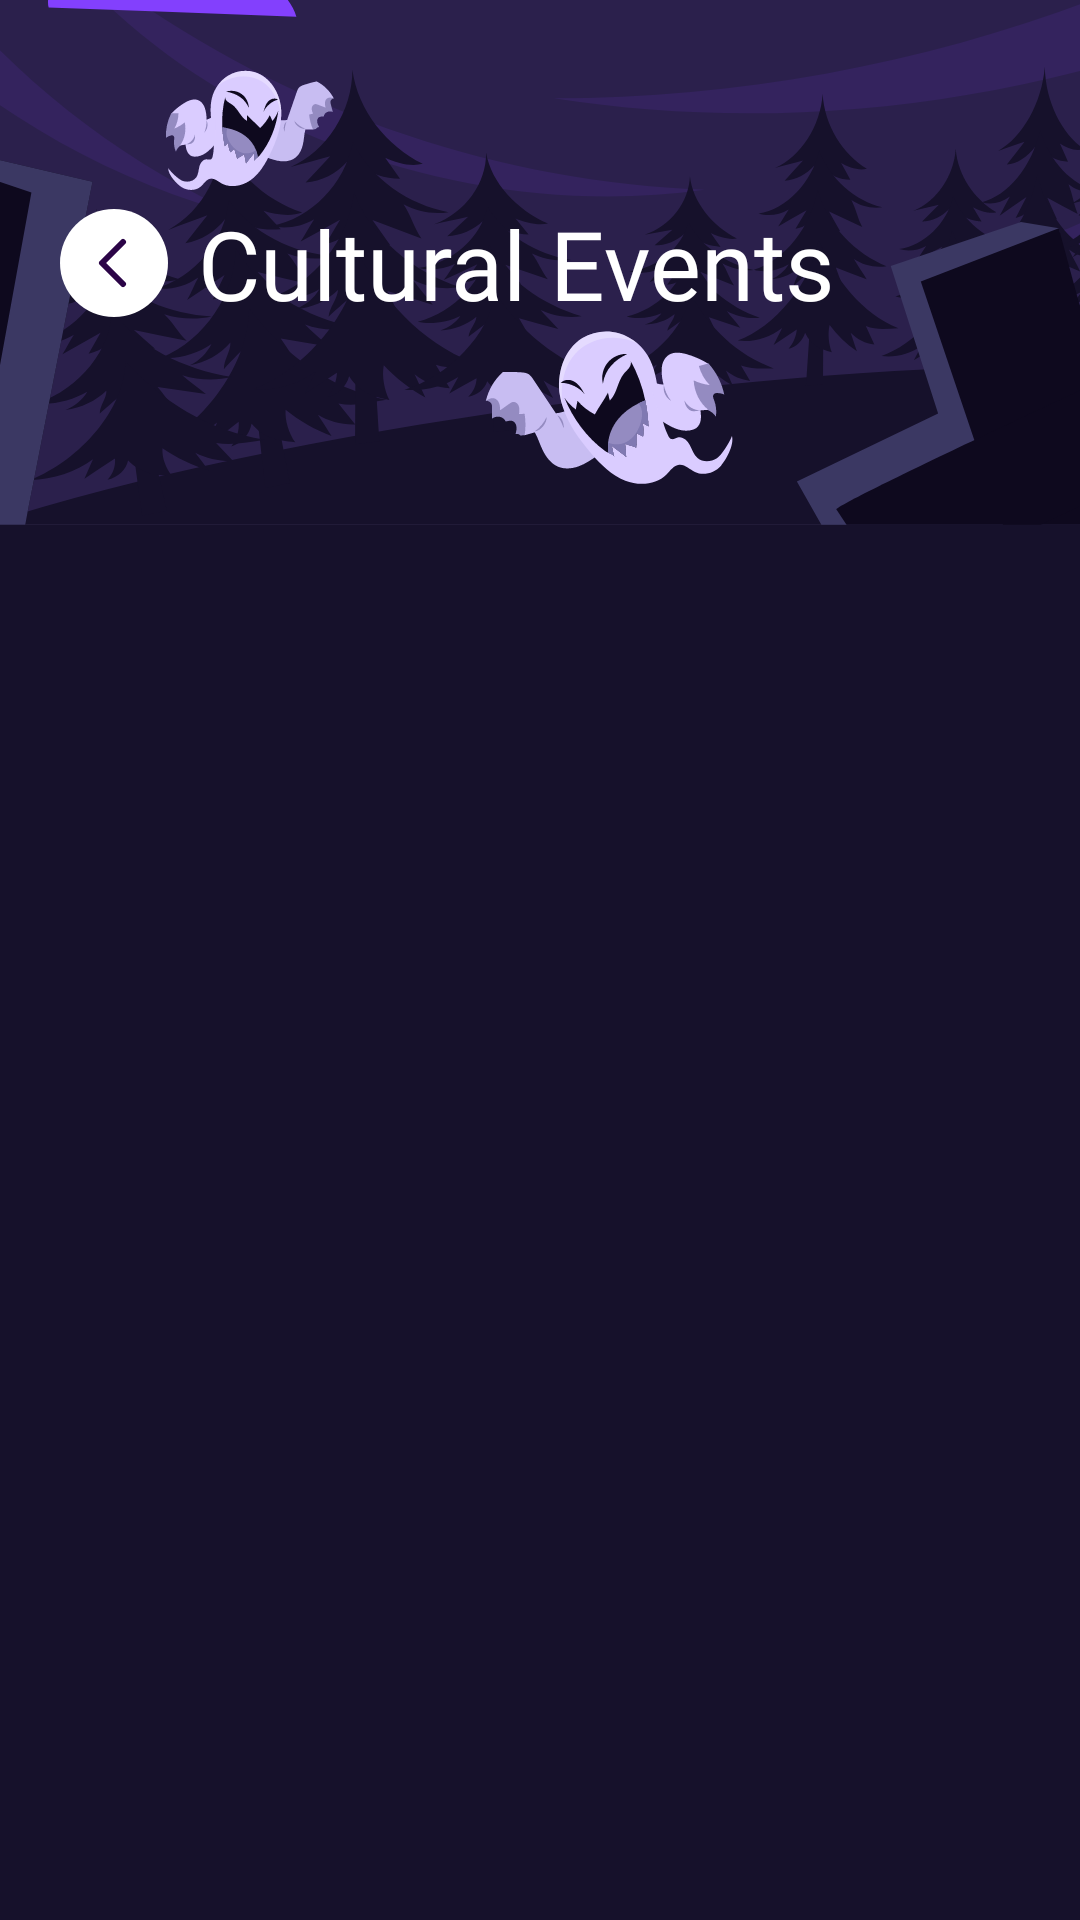

Screen size 1080x1920. Icon name, then its center in pixels as (x=x, y=y):
back: (x=114, y=263)
